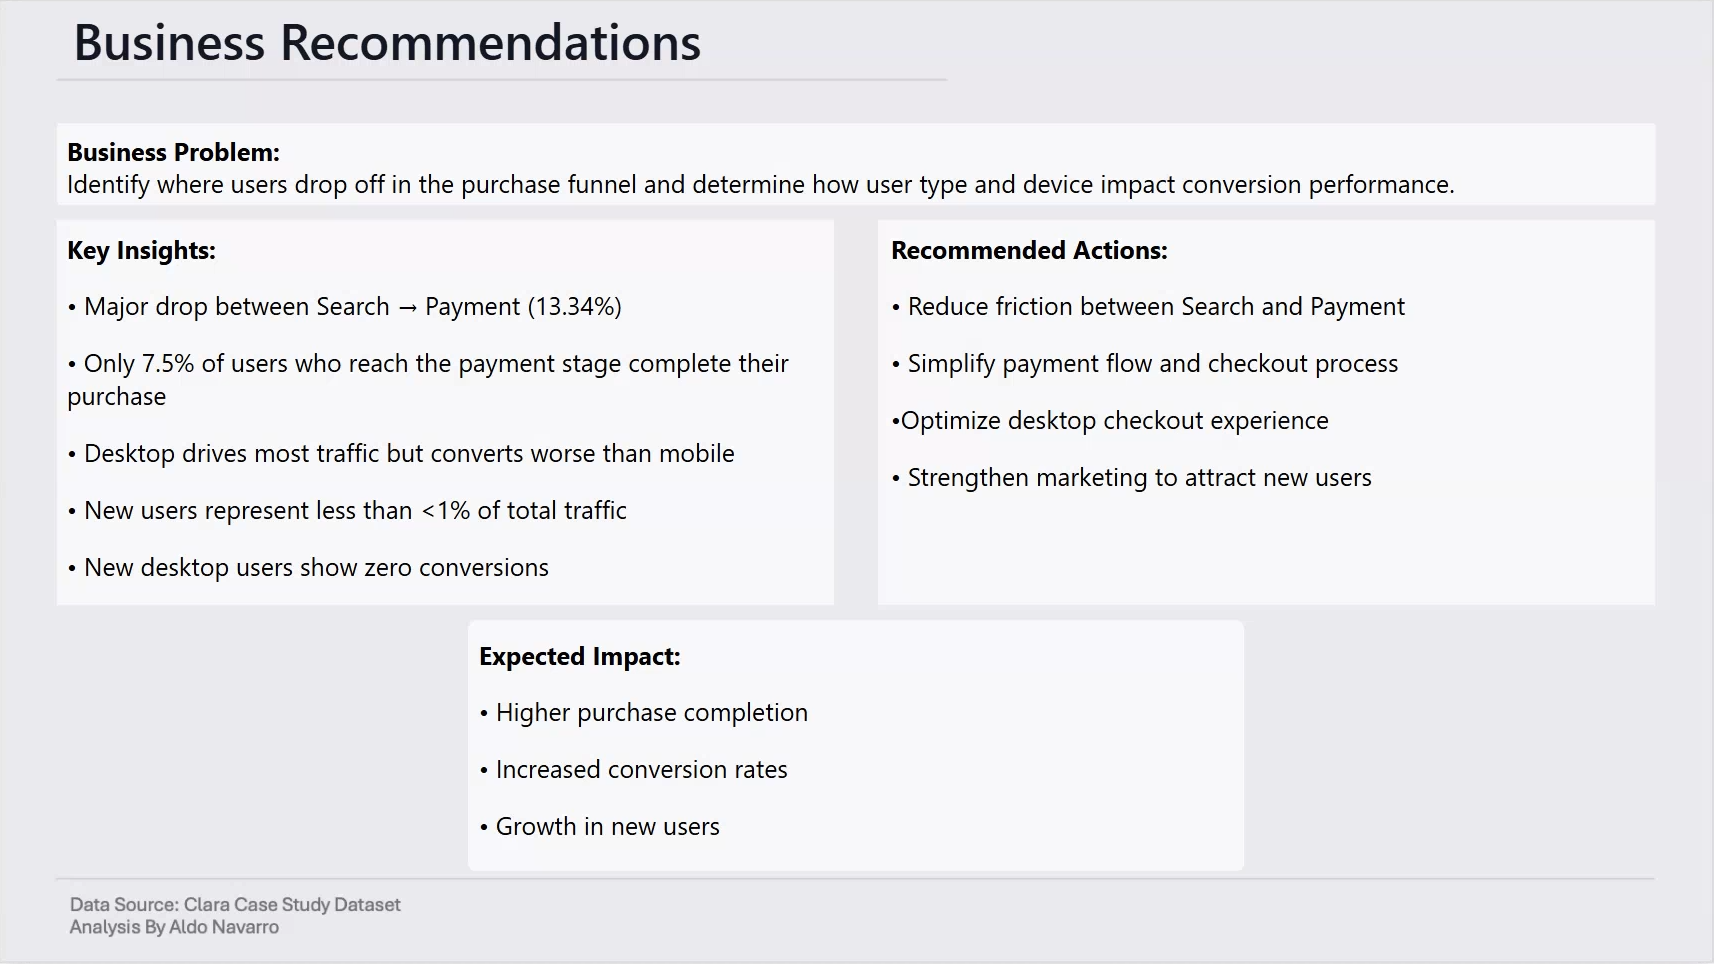

The dashboard page shown, as its layout file describes it:
{"tool":"powerbi","page":{"name":"Business Recommendations","canvas":[1280,720],"ordinal":3},"visuals":[{"type":"textbox","box":[50,0,660.3,64.1],"z":0},{"type":"textbox","box":[46.2,94.9,1187.2,60.3],"z":1},{"type":"textbox","box":[46.2,169.2,571.8,279.5],"z":2},{"type":"textbox","box":[661.5,169.2,571.8,279.5],"z":3},{"type":"textbox","box":[353.8,471.8,571.8,207.7],"z":4}]}

Visuals, with their boxes in screenshot pixels (x1, y1, x2, y2), scaled from the page's 1280x720 canvas onto the 1714x964 screenshot:
textbox: (x1=67, y1=0, x2=951, y2=86)
textbox: (x1=62, y1=127, x2=1652, y2=208)
textbox: (x1=62, y1=227, x2=828, y2=601)
textbox: (x1=886, y1=227, x2=1651, y2=601)
textbox: (x1=474, y1=632, x2=1239, y2=910)
